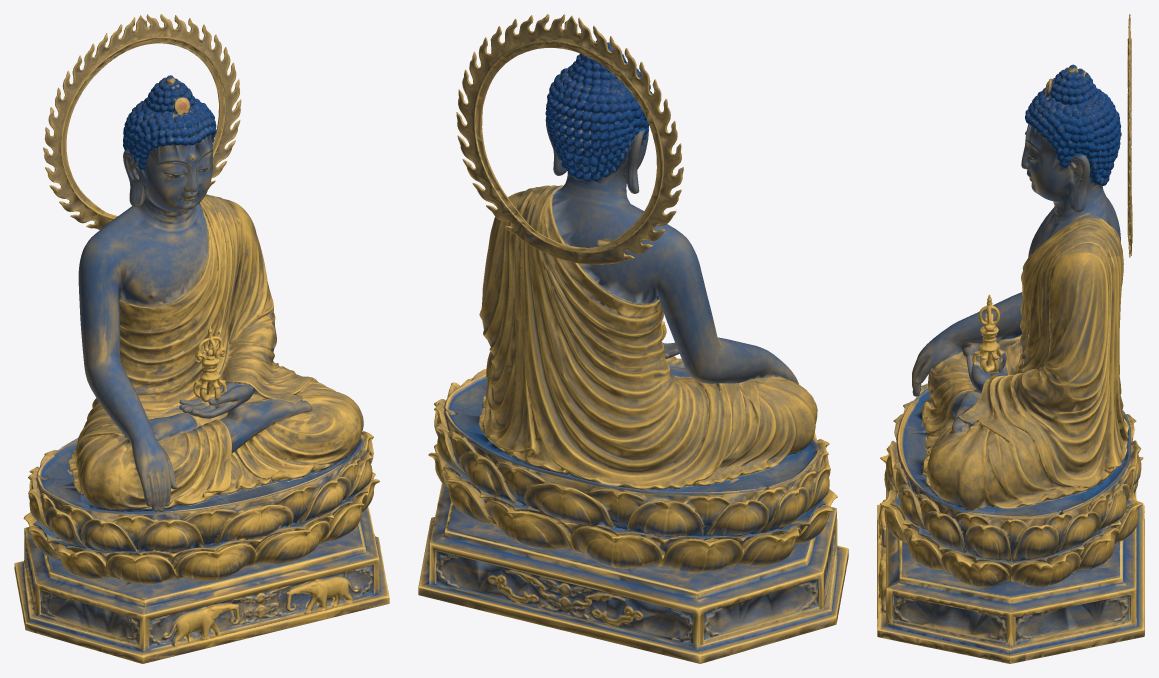
Rendered from akshobhya.glb.
3 renders of one model, left to right at view 1: azimuth 30°, elevation 25°; view 2: azimuth 150°, elevation 25°; view 3: azimuth 270°, elevation 25°, orthographic. The views are drawn at different scales.
Parts seen in each view (by area): view 1: mesh-q; view 2: mesh-q; view 3: mesh-q.
Boxes of the visible parts, x1,y1,x2,y2 form: mesh-q: (14,14,389,663); mesh-q: (418,14,848,663); mesh-q: (877,14,1144,663).
Bounding box in the file's own units: 1.32 × 1.9 × 0.8367.
1 material, 1 textured.
